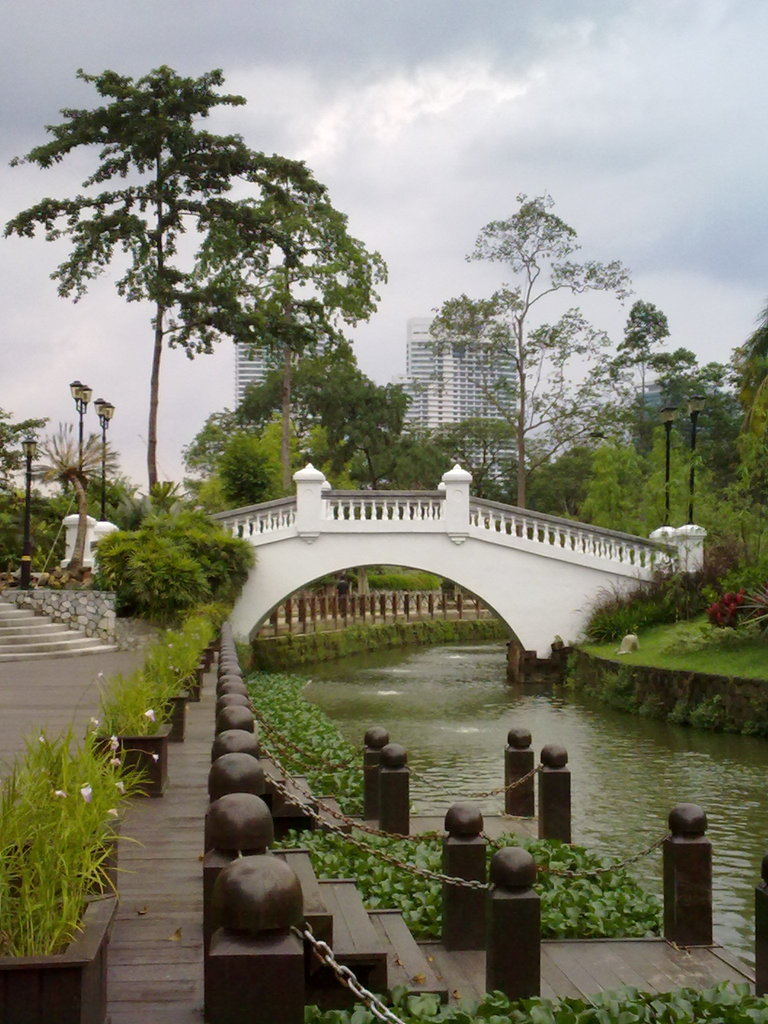Tree: (32, 45, 393, 531), (398, 199, 767, 566), (0, 419, 269, 576)
